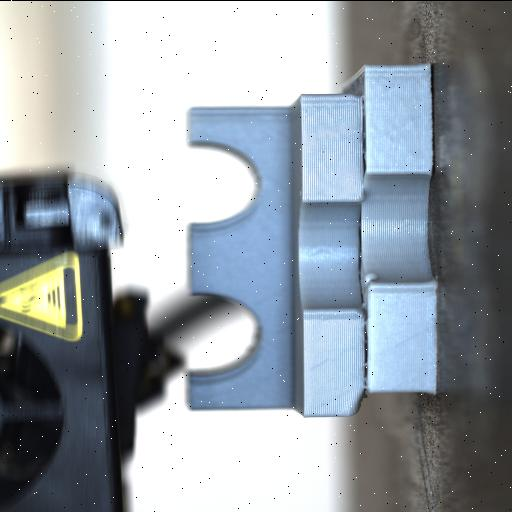layer_shift: (349, 62, 375, 416)
